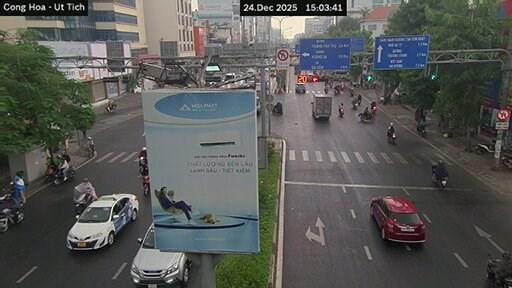motorbike: (0, 193, 23, 232), (487, 255, 511, 287), (73, 183, 96, 214), (53, 166, 75, 184), (432, 165, 447, 189), (475, 139, 495, 154), (44, 164, 58, 183), (358, 113, 375, 122), (502, 154, 512, 169), (142, 175, 149, 195), (272, 102, 282, 115), (139, 157, 147, 173), (86, 143, 95, 157), (105, 101, 116, 112), (417, 125, 426, 137), (387, 132, 396, 143), (338, 106, 344, 117), (371, 105, 377, 115), (357, 95, 361, 105), (334, 88, 339, 95), (352, 101, 356, 109), (324, 87, 328, 93)
